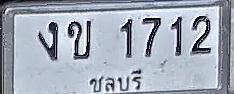1: (120, 18, 132, 58), (170, 16, 182, 56)
2: (190, 15, 210, 54)
7: (142, 17, 161, 57)
A02: (67, 20, 92, 60)
A07: (37, 22, 58, 60)
CBI: (85, 69, 145, 94)
